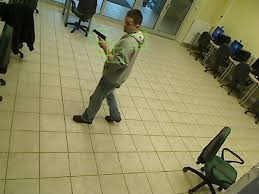pistol: (91, 26, 108, 45)
